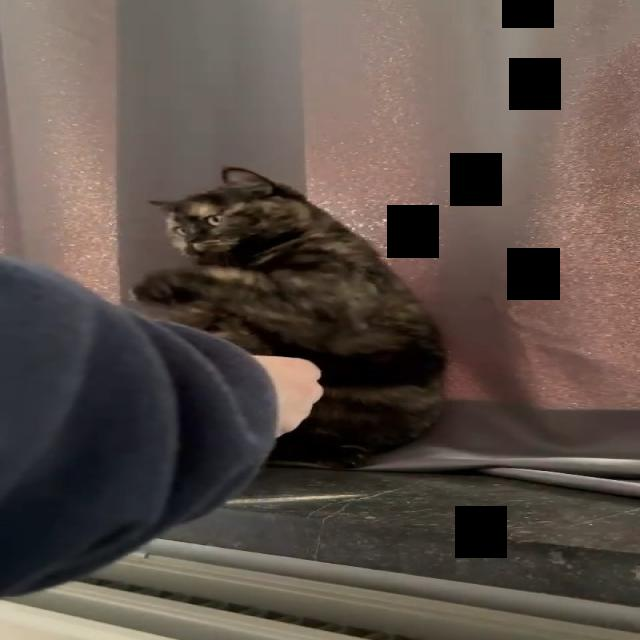authorized: (129, 166, 448, 470)
